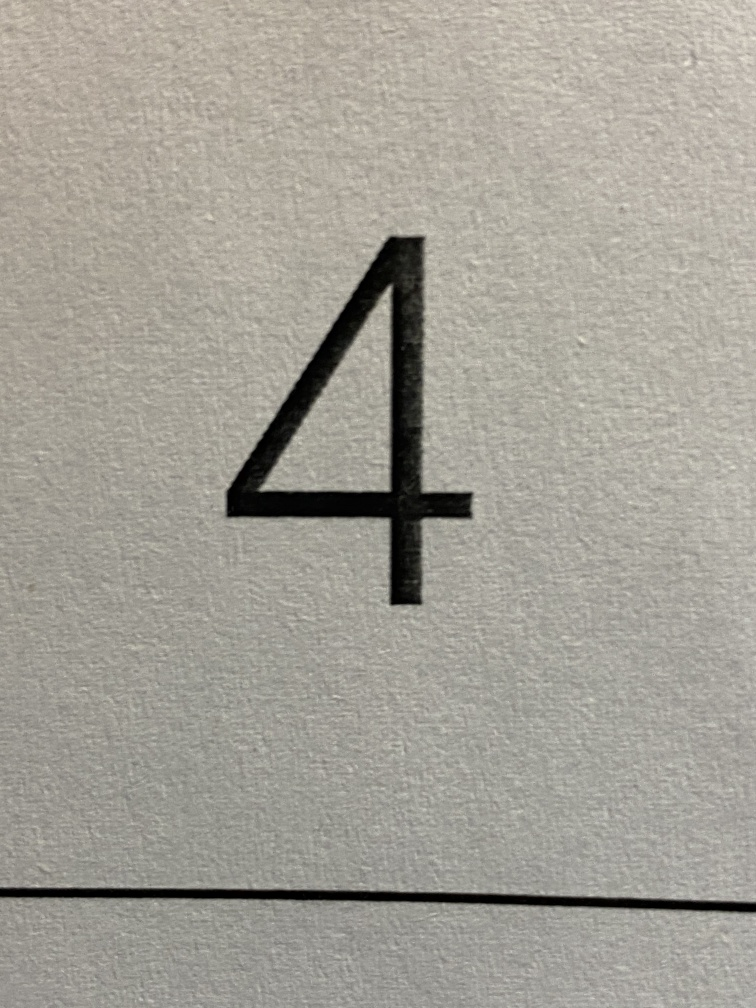four: (202, 173, 553, 659)
